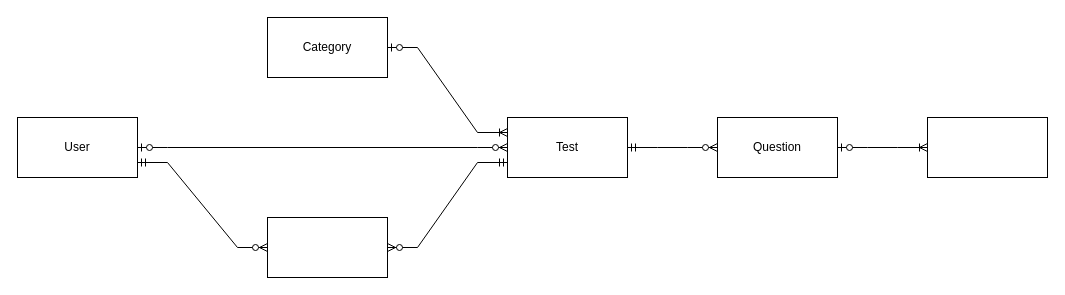
Image size: 1065x295. Some labels were removed from this diagram. The shapes that lost their labels are listed below. From the top down, each one's centre as x and y in pixels, then its label:
(987,147): Answer
(327,247): Result
